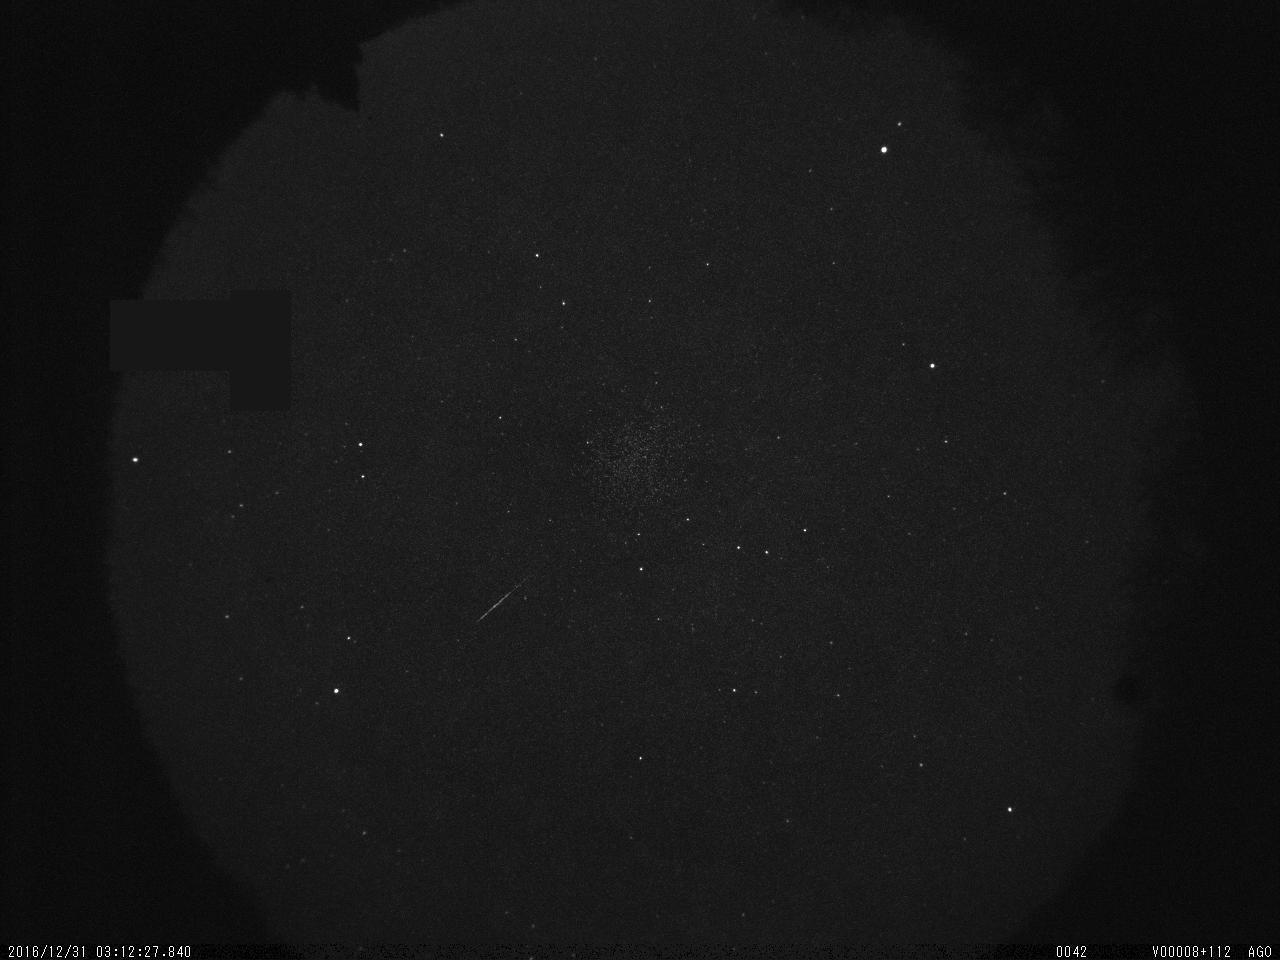meteor: (471, 572, 548, 623)
